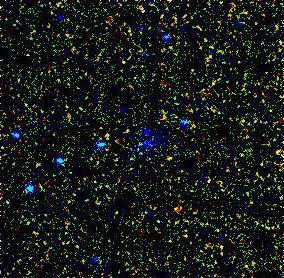star: (157, 140, 187, 170)
